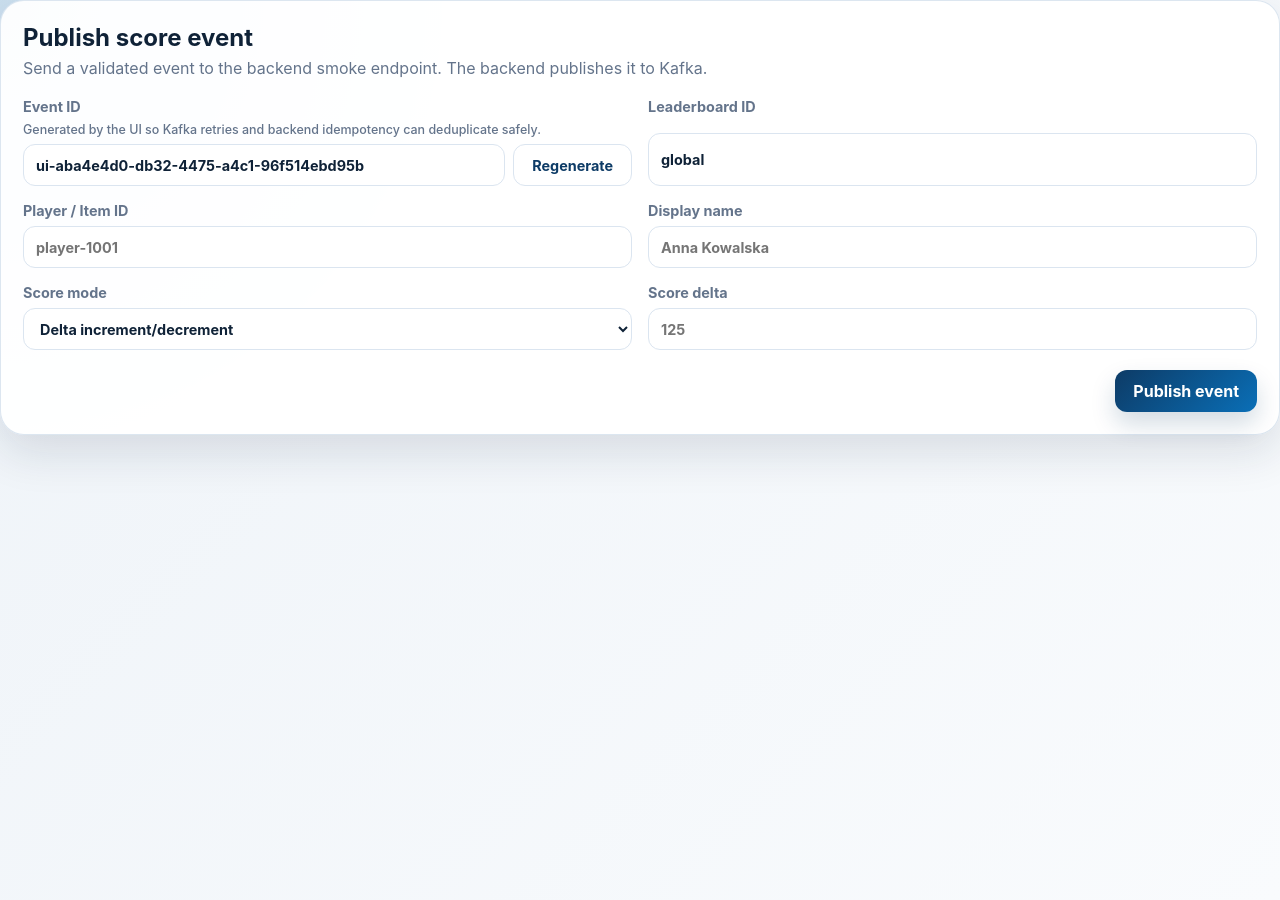
Scenario: ScoreEventForm › publishes a valid delta event
The image size is (1280, 900).
Type "player-1" into the field labelled "Player / Item ID" at (328, 247), box [23,226,632,268]
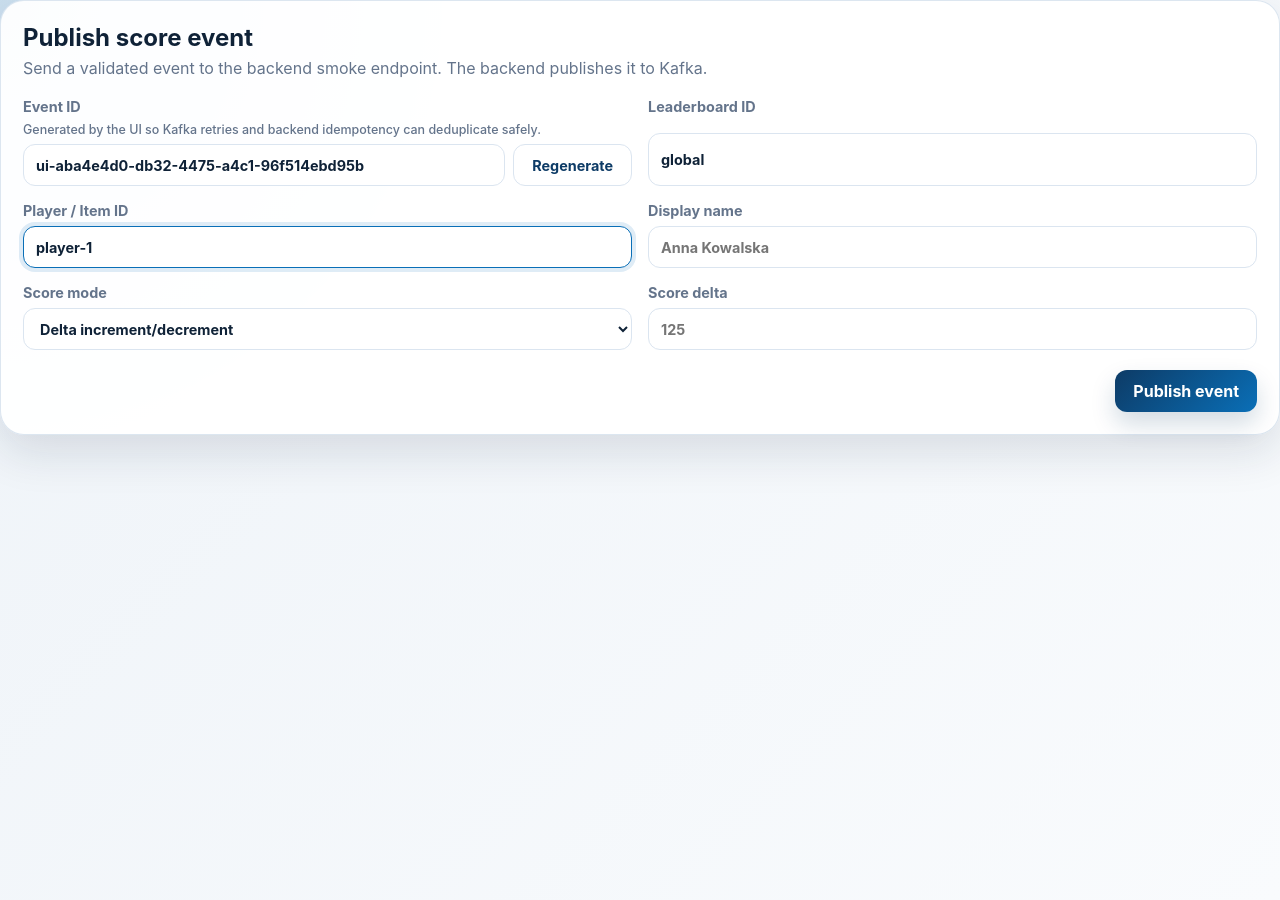
Type "Player One" into the field labelled "Display name" at (952, 247), box [648,226,1257,268]
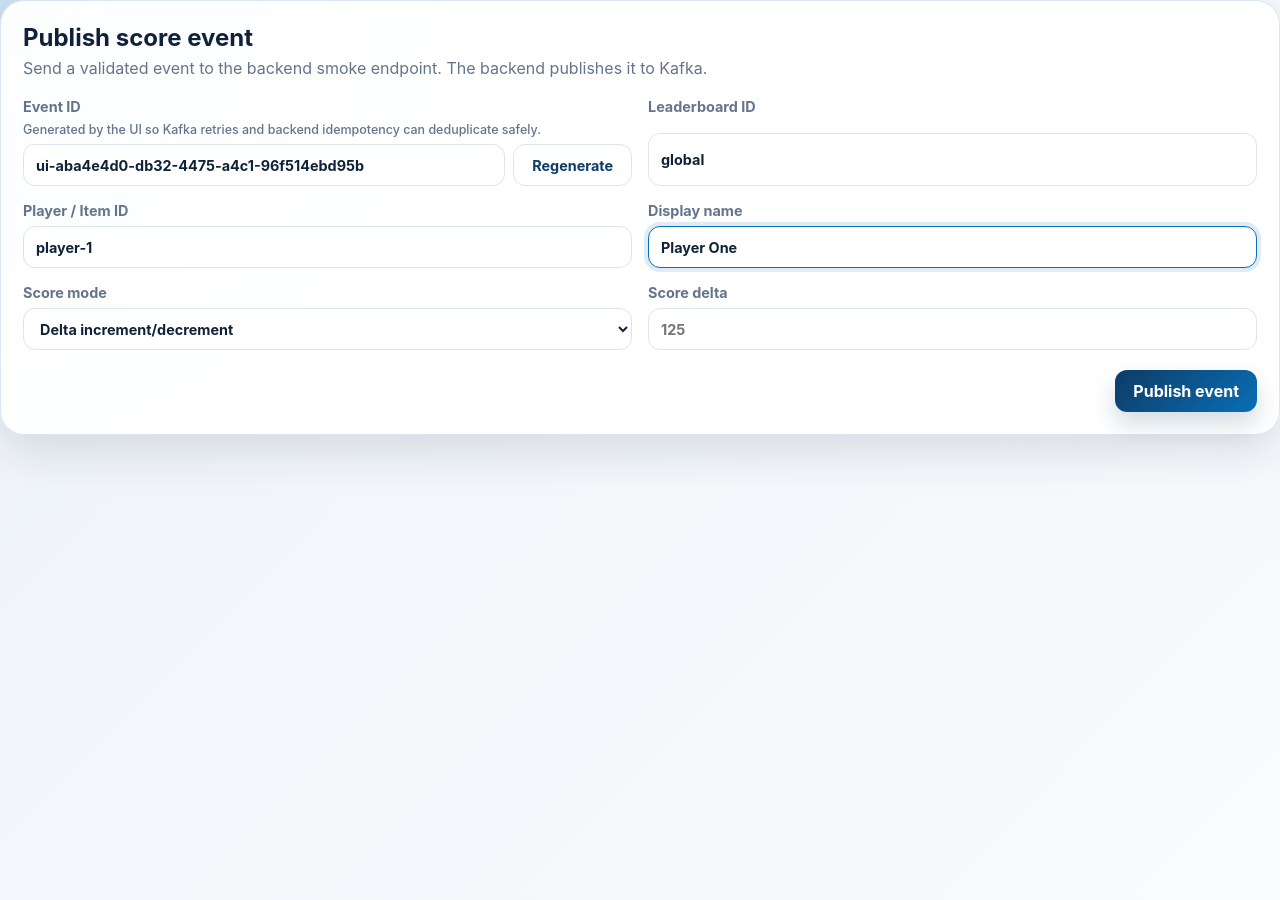
Type "25" into the number field labelled "Score delta" at (952, 329), box [648,308,1257,350]
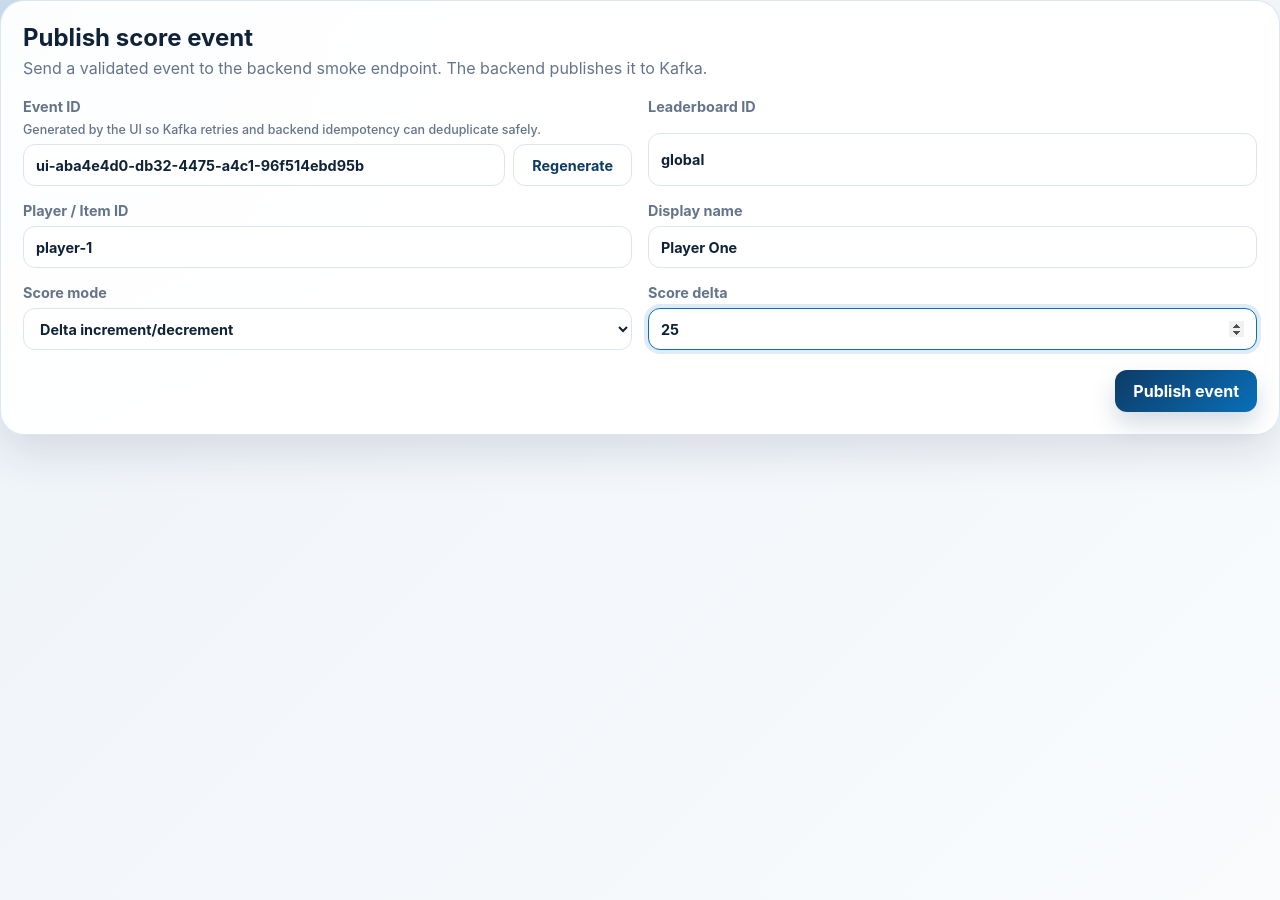
Click the button "Publish event" at (1186, 391), box [1115,370,1257,412]
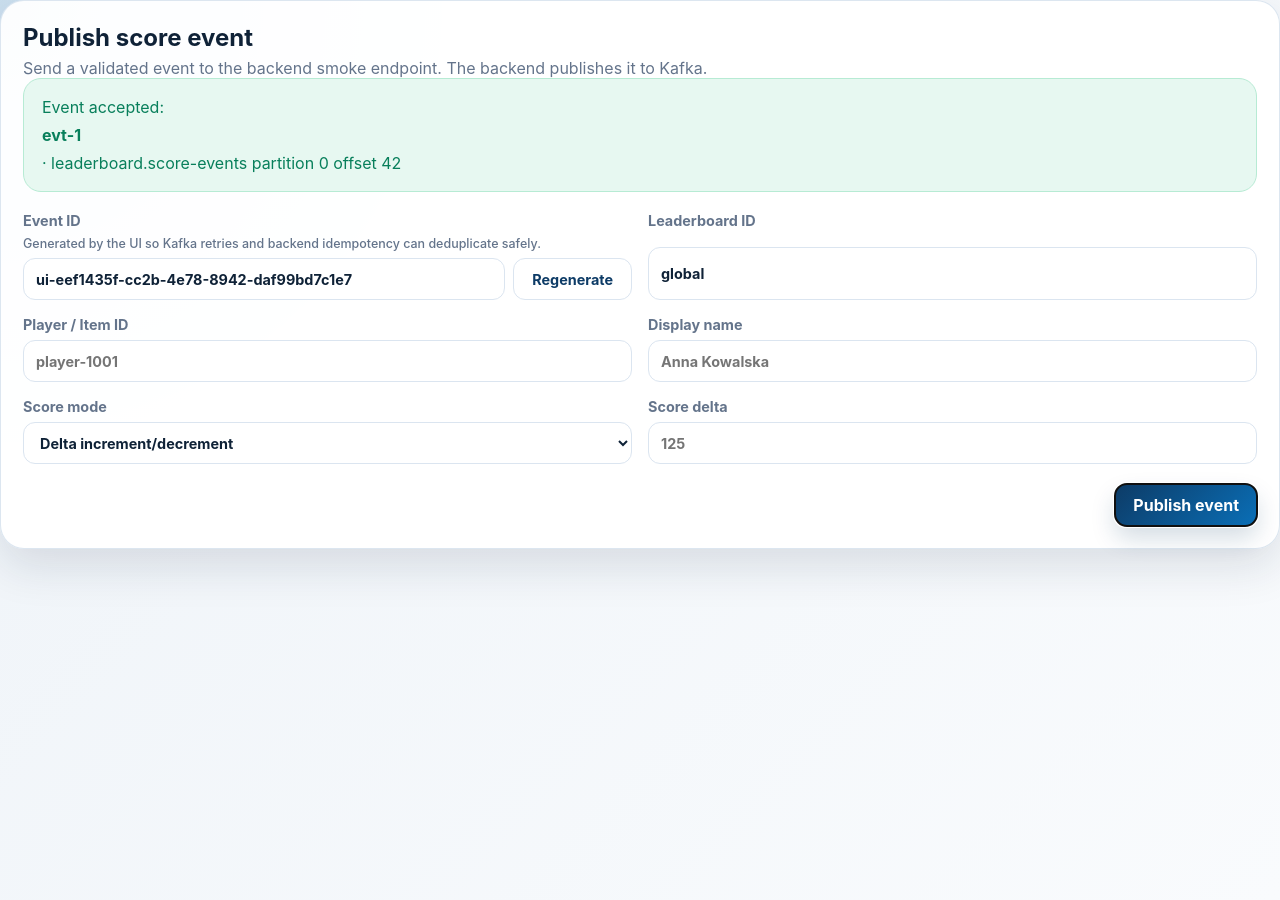
Expected: the text "Event accepted: evt-1 · leaderboard.score-events partition 0 offset 42" is shown, [23,78,1257,192]
